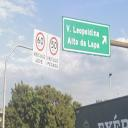speed_limit_50: (49, 37, 58, 55)
speed_limit_60: (36, 32, 45, 51)
